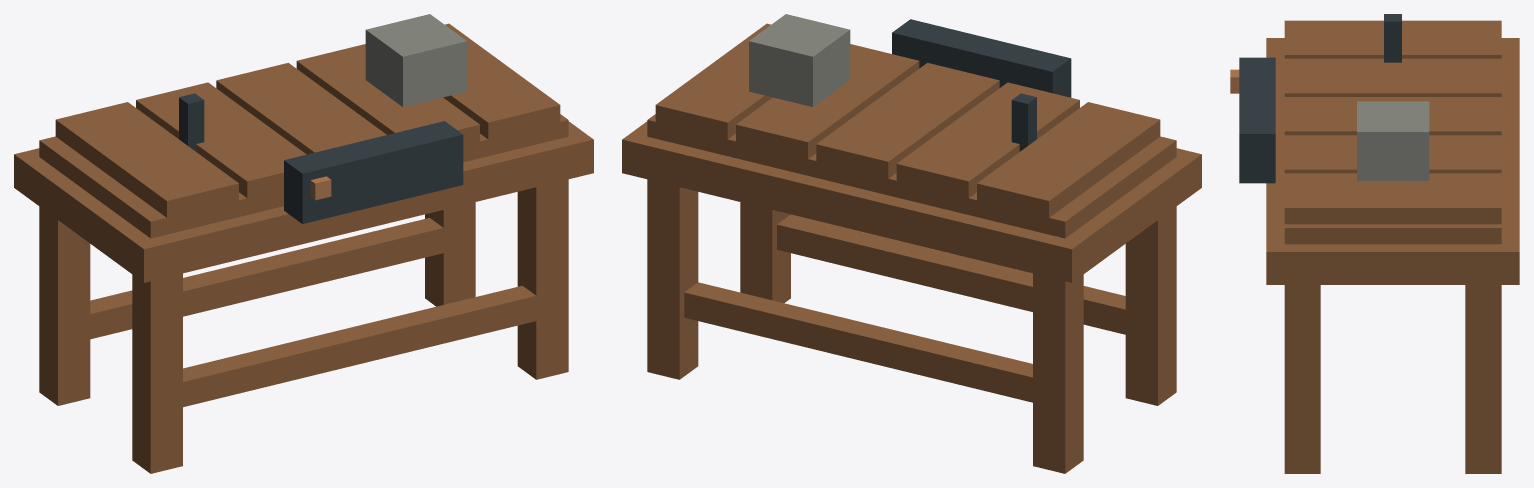
Rendered from field_bench.glb.
3 renders of one model, left to right at view 1: azimuth 30°, elevation 25°; view 2: azimuth 150°, elevation 25°; view 3: azimuth 270°, elevation 25°, orthographic. The views are drawn at different scales.
Visible parts, largest first — view 1: field_bench/frame, field_bench/work_surface; view 2: field_bench/frame, field_bench/work_surface; view 3: field_bench/work_surface, field_bench/frame.
Boxes of the visible parts, bbox=[...] form: field_bench/frame: bbox=[14, 121, 593, 473]; field_bench/work_surface: bbox=[39, 14, 568, 238]; field_bench/frame: bbox=[622, 121, 1201, 473]; field_bench/work_surface: bbox=[647, 14, 1176, 238]; field_bench/work_surface: bbox=[1230, 14, 1501, 244]; field_bench/frame: bbox=[1266, 38, 1519, 473].
Size of the model in its own units: 1.75 by 1.19 by 1.
